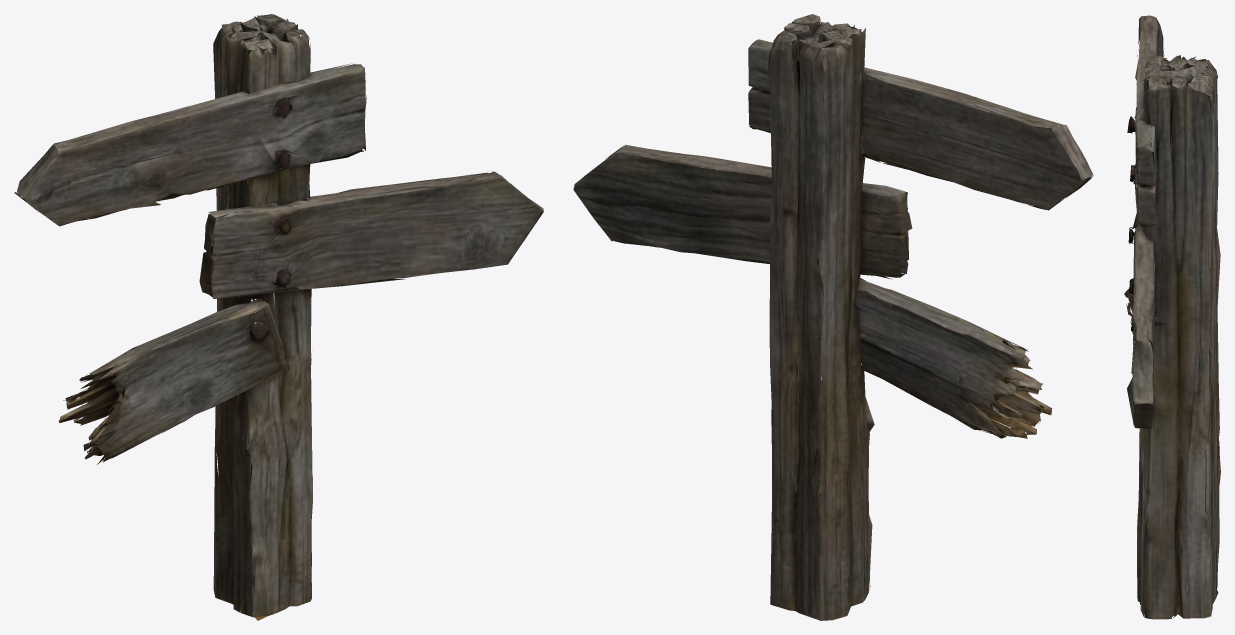
File: wald_wegweiser.glb
The picture shows the model from 3 angles, left to right: view 1: azimuth 30°, elevation 25°; view 2: azimuth 150°, elevation 25°; view 3: azimuth 270°, elevation 25°; orthographic projection. The views are drawn at different scales.
Visible parts, largest first — view 1: Prop; view 2: Prop; view 3: Prop.
Boxes of the visible parts, box(x1,y1,x2,y2) form: Prop: box(14, 14, 543, 620); Prop: box(573, 14, 1093, 620); Prop: box(1124, 15, 1220, 619).
Bounding box in the file's own units: 0.956 × 1.01 × 0.1646.
1 material, 1 textured.
